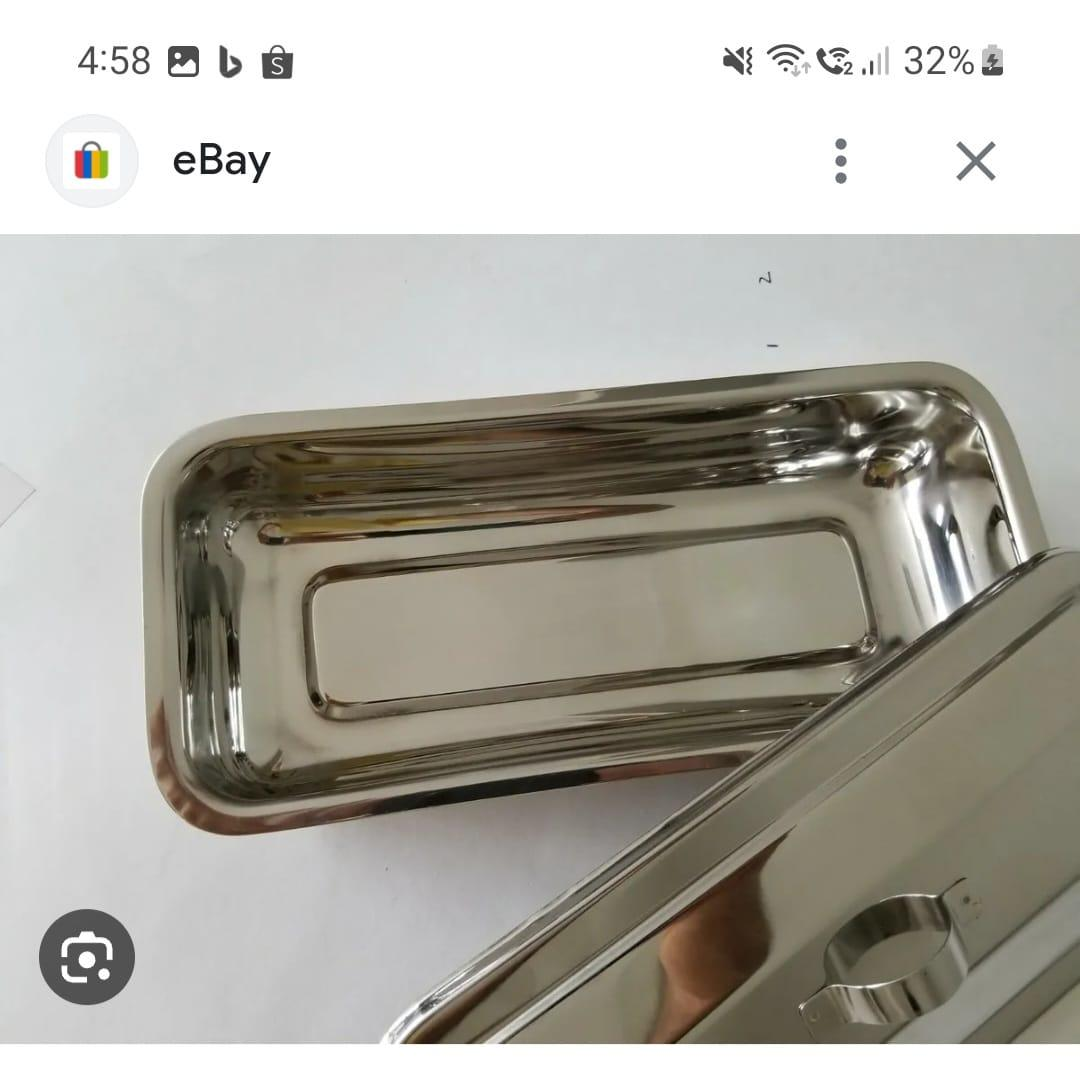Catheter Tray: (140, 355, 1060, 840)
